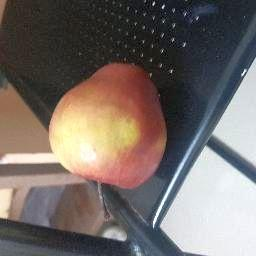apple: (39, 52, 191, 228)
